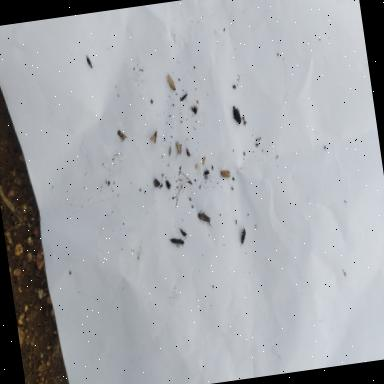pbw: (196, 208, 212, 225), (166, 72, 176, 92), (117, 128, 128, 140), (219, 168, 231, 178), (174, 140, 182, 155), (167, 142, 174, 157), (201, 156, 206, 166)
